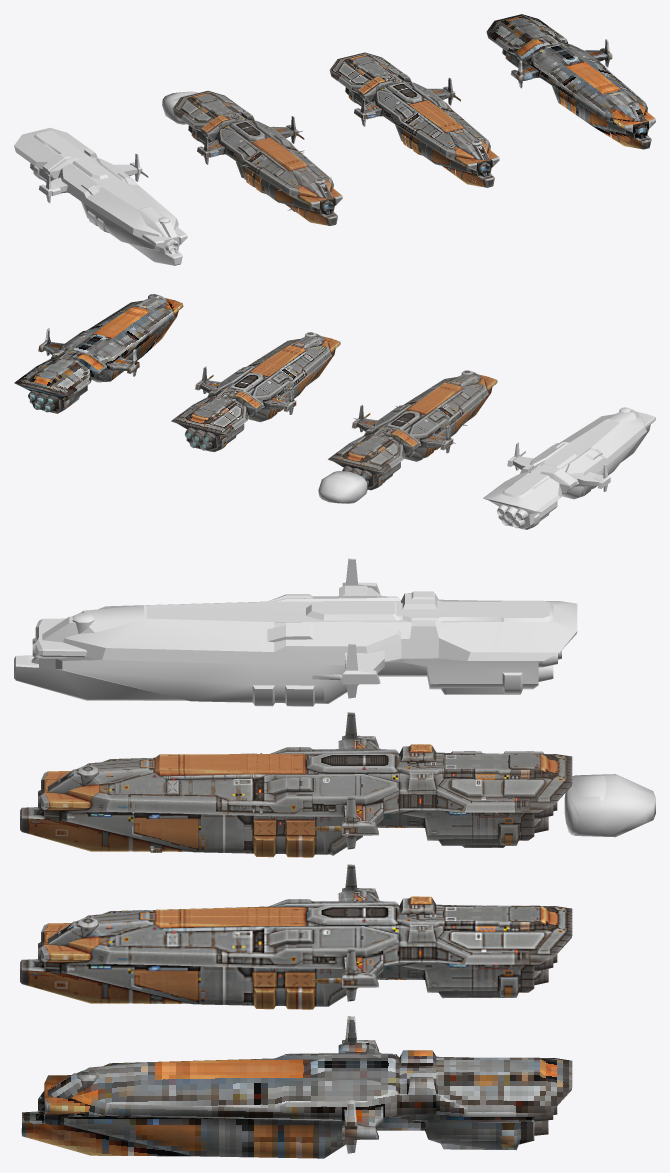
Rendered from hgn_36_ionfrigate_T3.dae.
3 views of the same model, one above another, from view 1: azimuth 30°, elevation 25°; view 2: azimuth 150°, elevation 25°; view 3: azimuth 270°, elevation 25° (orthographic). The views are drawn at different scales.
Parts seen in each view (by area): view 1: COL[Root], MULT[Vision]_LOD[0]_TAGS[DoScar], MULT[Vision]_LOD[1]_TAGS[DoScar], MULT[Vision]_LOD[2]_TAGS[DoScar], GLOW[EngGlow_stg3]_LOD[0]; view 2: COL[Root], MULT[Vision]_LOD[1]_TAGS[DoScar], MULT[Vision]_LOD[2]_TAGS[DoScar], MULT[Vision]_LOD[0]_TAGS[DoScar], GLOW[EngGlow_stg3]_LOD[0]; view 3: COL[Root], MULT[Vision]_LOD[0]_TAGS[DoScar], MULT[Vision]_LOD[1]_TAGS[DoScar], MULT[Vision]_LOD[2]_TAGS[DoScar], GLOW[EngGlow_stg3]_LOD[0].
Part boxes in pixels (left/top/right/bottom): COL[Root]: left=14, top=127, right=187, bottom=265; MULT[Vision]_LOD[0]_TAGS[DoScar]: left=172, top=90, right=342, bottom=225; MULT[Vision]_LOD[1]_TAGS[DoScar]: left=329, top=52, right=499, bottom=187; MULT[Vision]_LOD[2]_TAGS[DoScar]: left=486, top=14, right=655, bottom=149; GLOW[EngGlow_stg3]_LOD[0]: left=162, top=91, right=197, bottom=124; COL[Root]: left=483, top=407, right=655, bottom=529; MULT[Vision]_LOD[1]_TAGS[DoScar]: left=171, top=332, right=340, bottom=451; MULT[Vision]_LOD[2]_TAGS[DoScar]: left=14, top=294, right=183, bottom=413; MULT[Vision]_LOD[0]_TAGS[DoScar]: left=328, top=370, right=497, bottom=490; GLOW[EngGlow_stg3]_LOD[0]: left=318, top=471, right=366, bottom=503; COL[Root]: left=14, top=558, right=577, bottom=706; MULT[Vision]_LOD[0]_TAGS[DoScar]: left=20, top=712, right=572, bottom=857; MULT[Vision]_LOD[1]_TAGS[DoScar]: left=20, top=864, right=572, bottom=1009; MULT[Vision]_LOD[2]_TAGS[DoScar]: left=21, top=1016, right=572, bottom=1158; GLOW[EngGlow_stg3]_LOD[0]: left=564, top=774, right=655, bottom=837.
Size of the model in its own units: 413 by 34.81 by 205.
